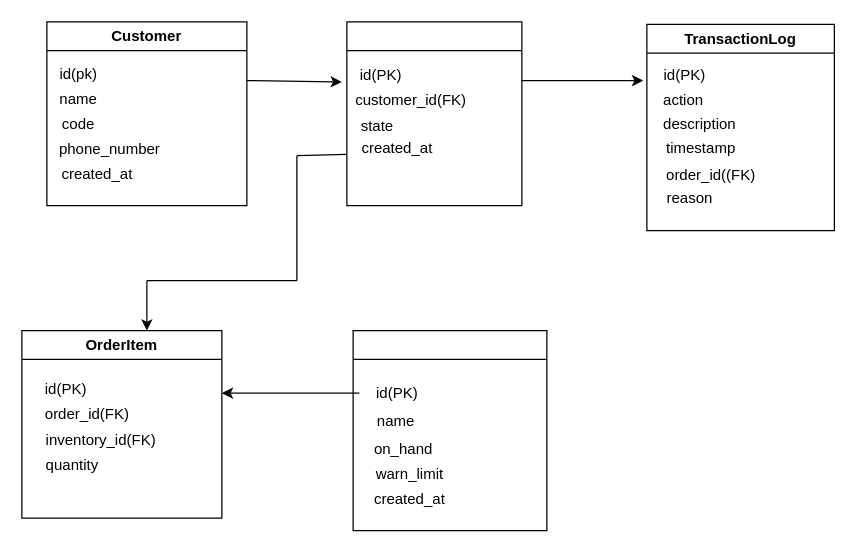
Some shapes in this 856 by 553 pixel diagram are drawn without their labels. Here are the shapes that lost their labels. From the top down, the box of each, then its label:
(346, 21, 522, 206): Order
(352, 329, 547, 531): Inventory
